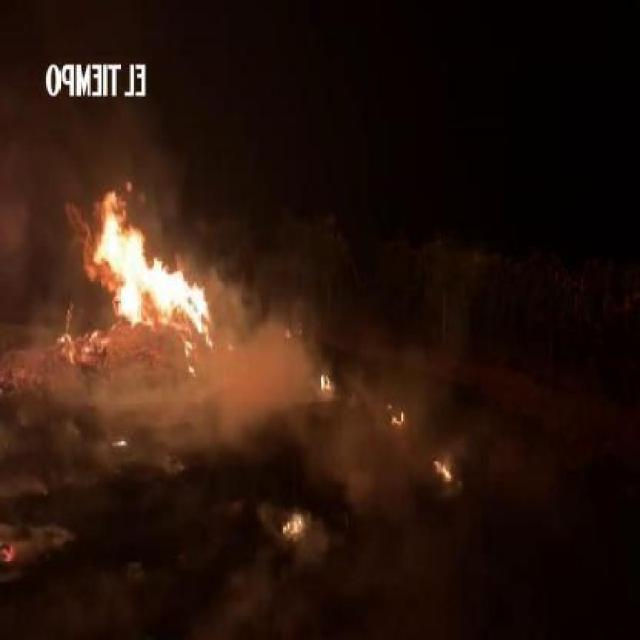Fire: (66, 189, 216, 342), (282, 512, 308, 540), (436, 458, 454, 477), (319, 366, 333, 389), (388, 410, 406, 424)
